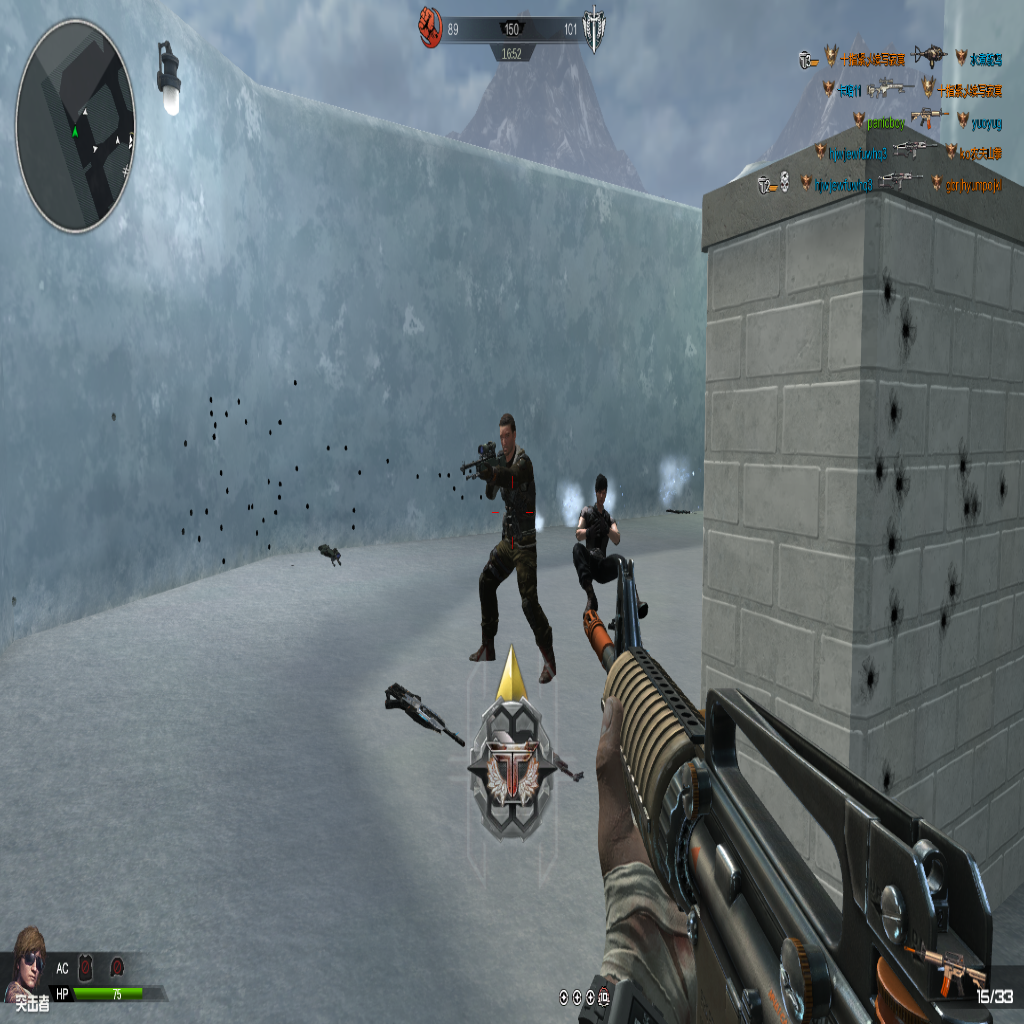ct: (466, 411, 551, 678)
